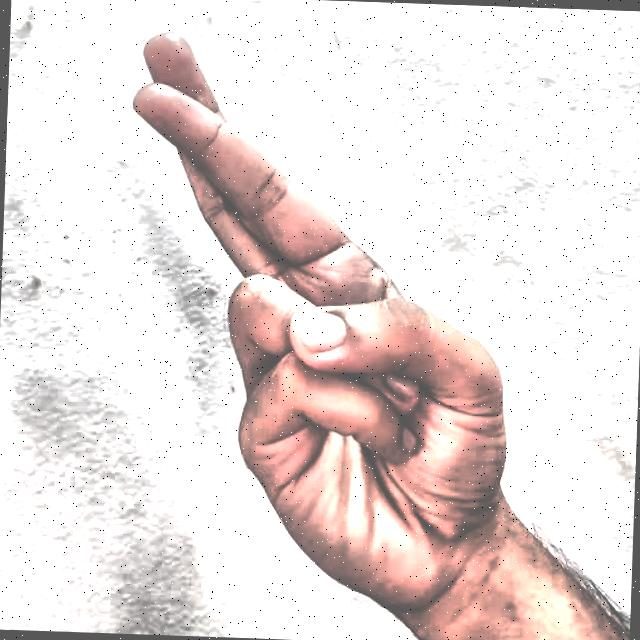Ra: (68, 7, 566, 640)
